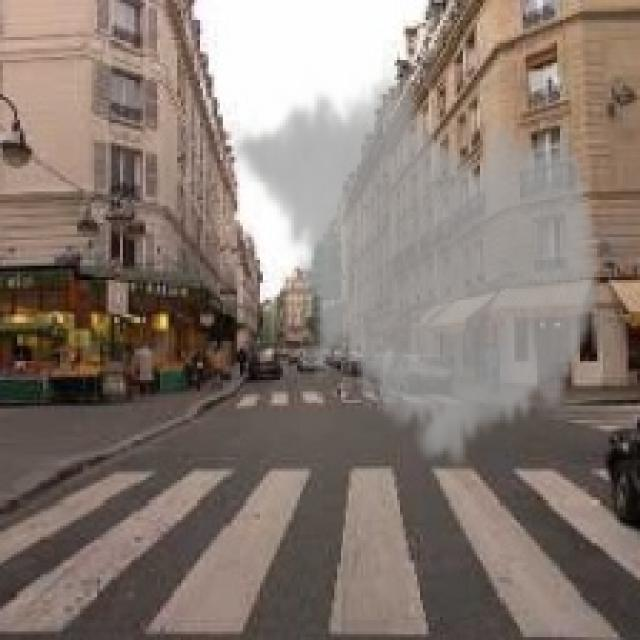Smoke: (231, 62, 606, 474)
